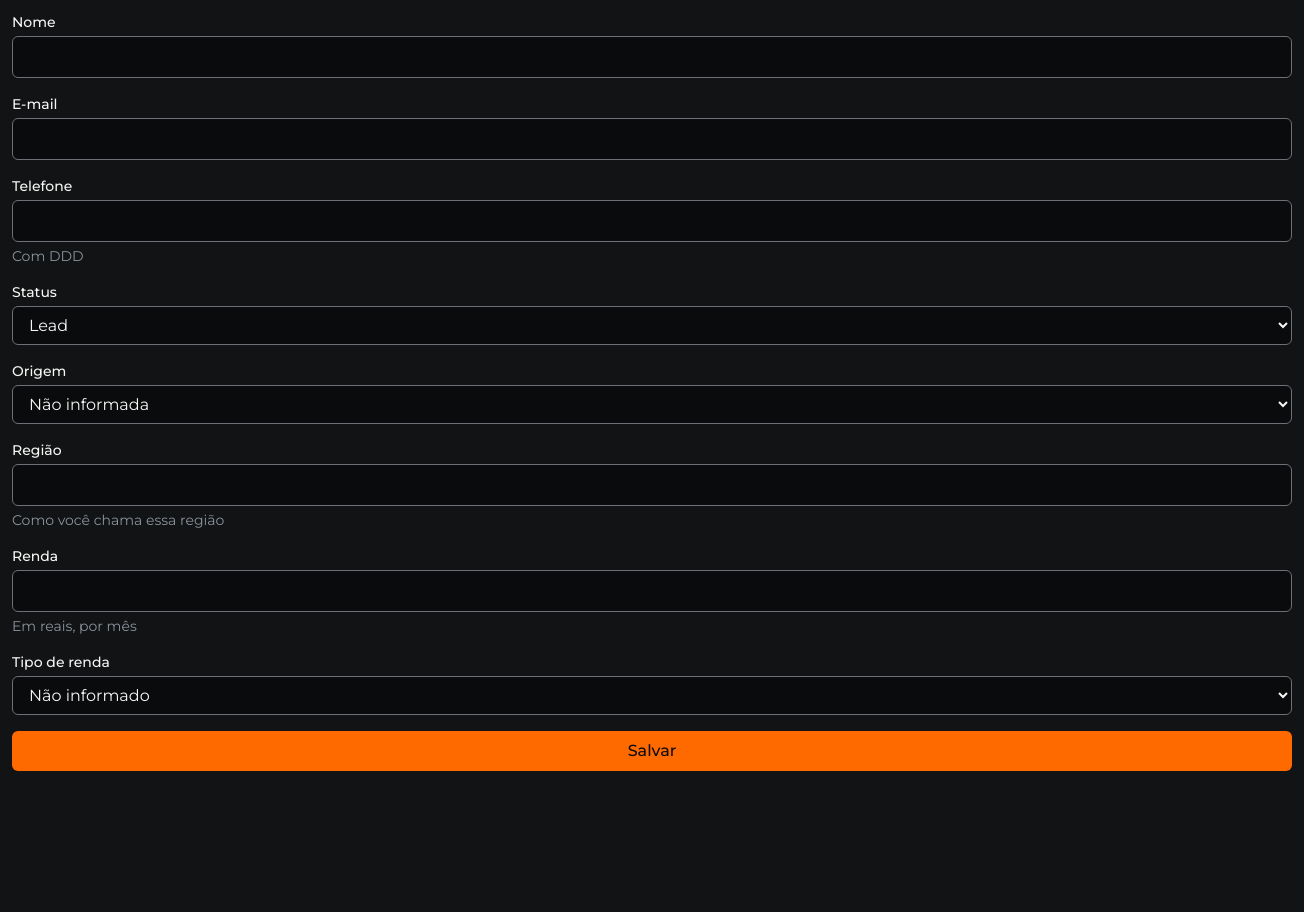
it: FormularioDeCliente › recusa e-mail de formato inválido, sem enviar
Type "Ana Prado" into the field labelled "Nome". click: (652, 57)
box: [12, 36, 1292, 78]
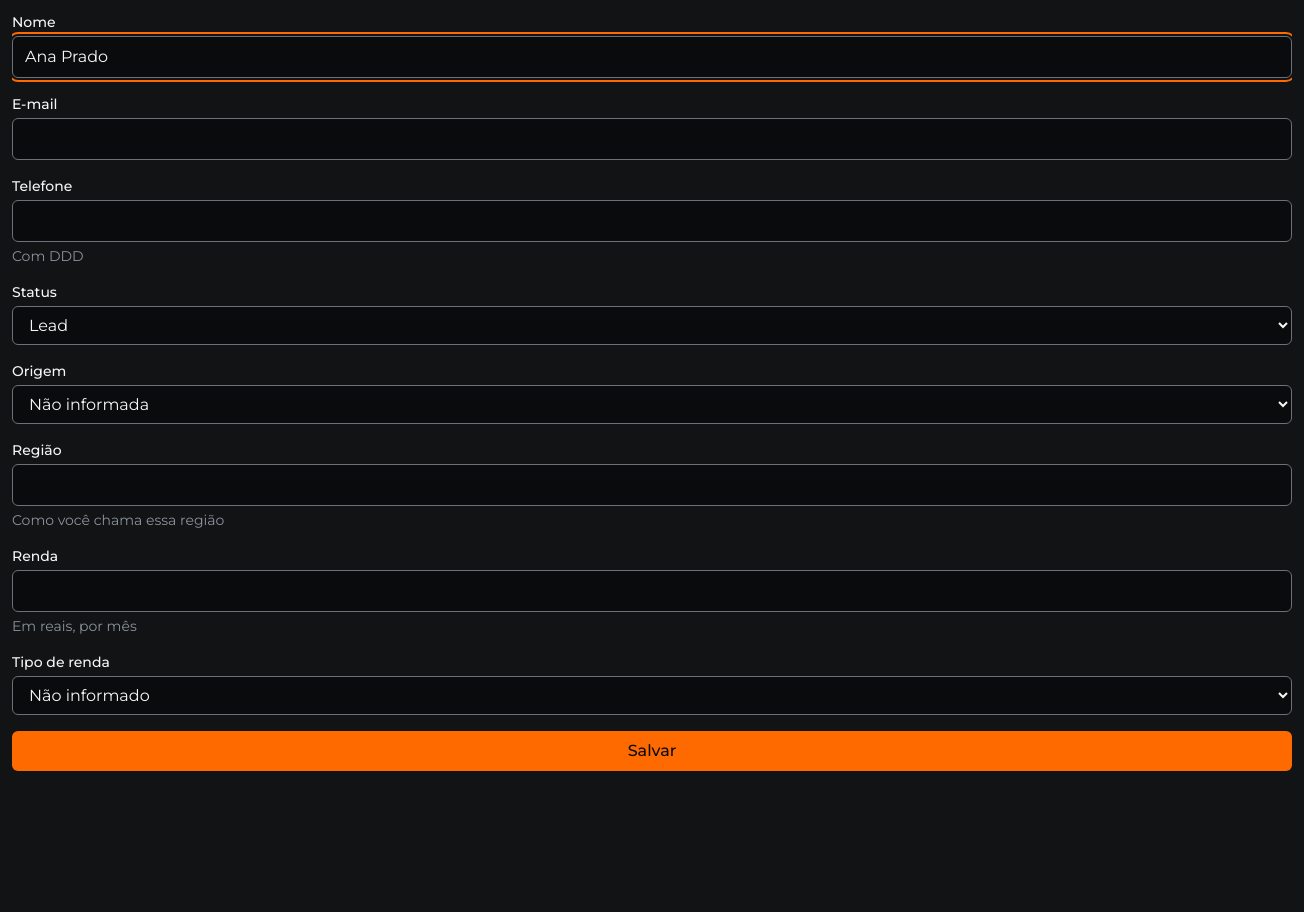
Type "ana@exemplo" into the field labelled "E-mail". click: (652, 139)
box: [12, 118, 1292, 160]
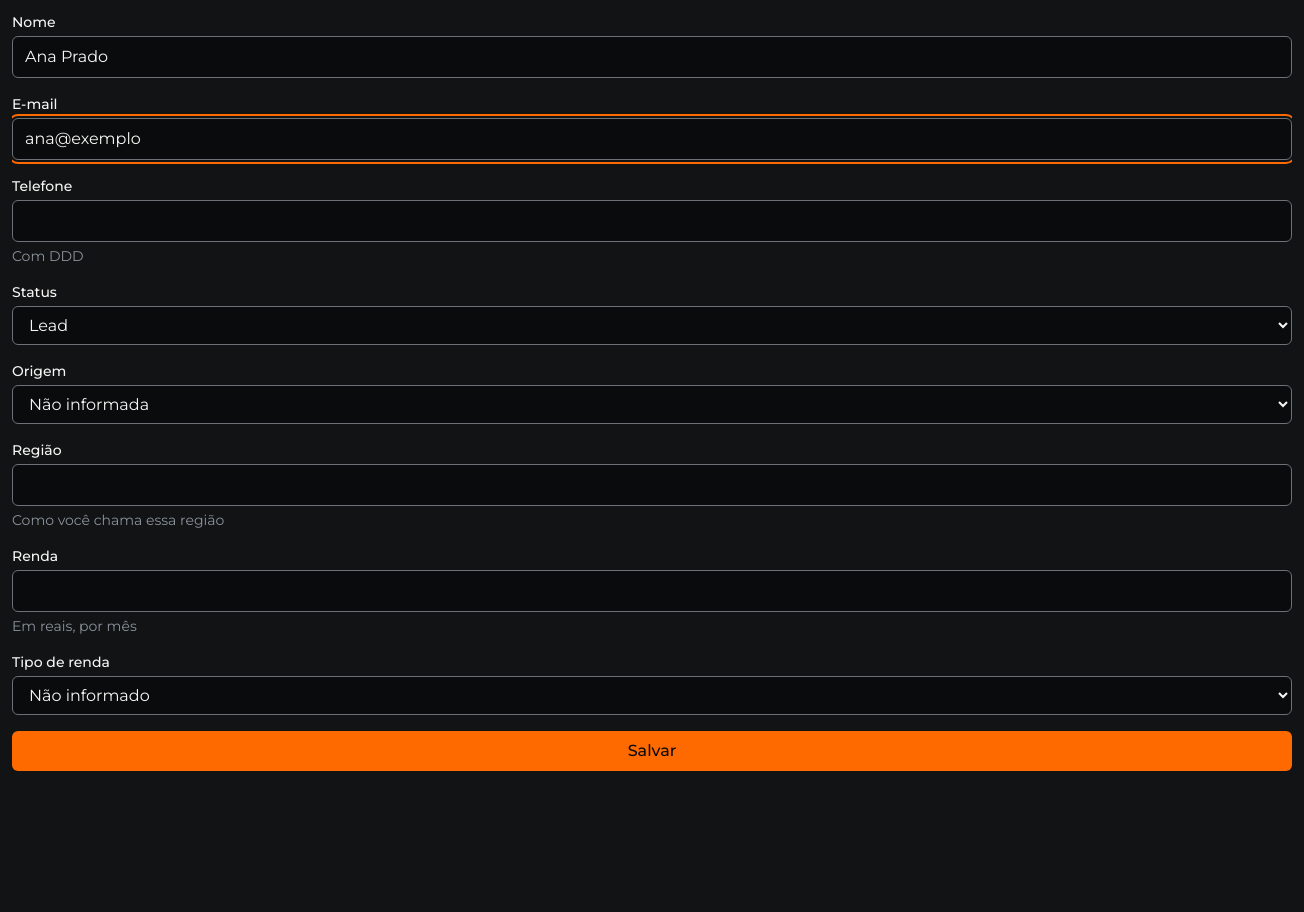
Click the button "Salvar". click: (652, 751)
box: [12, 731, 1292, 771]
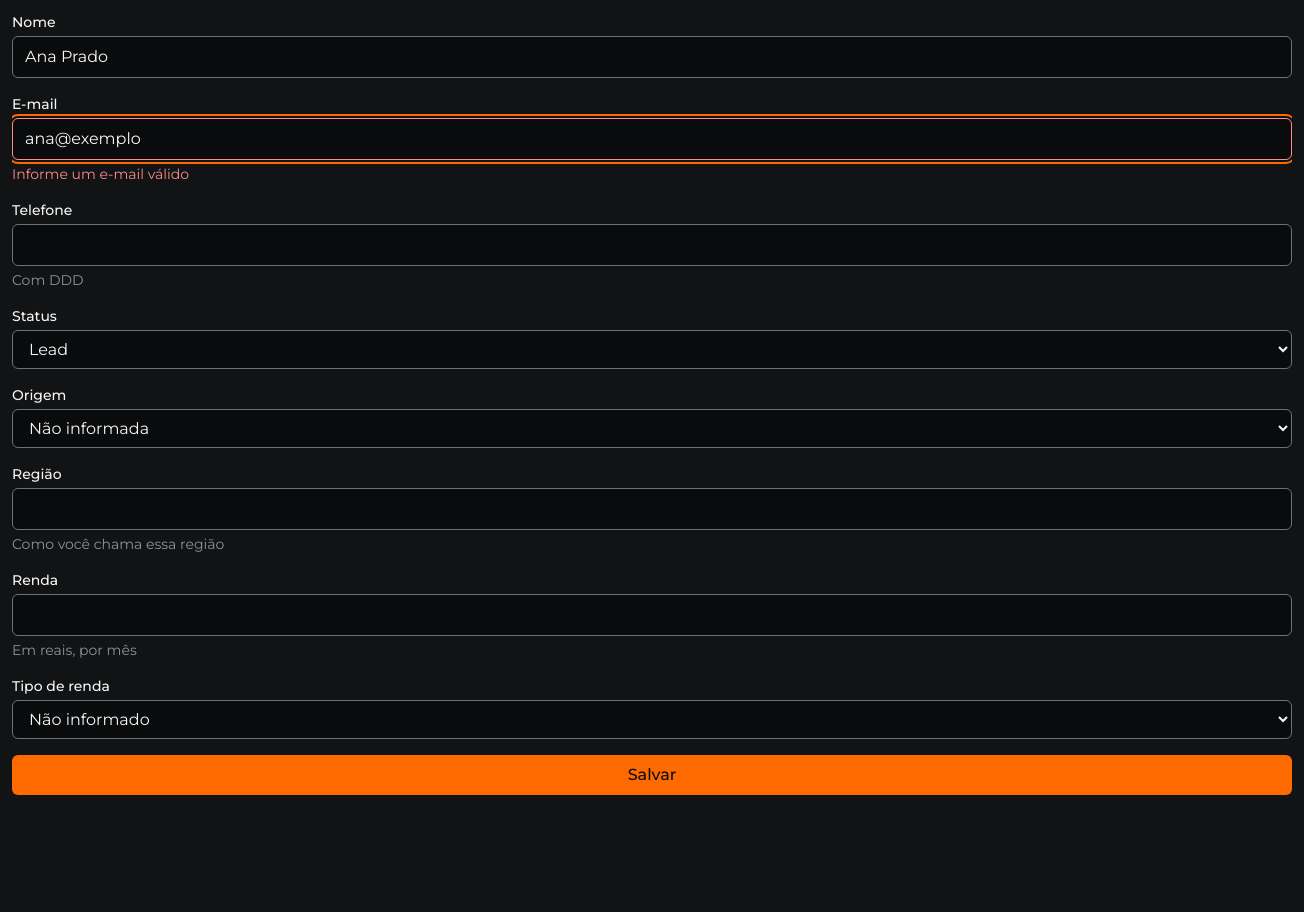
Check: the text "Informe um e-mail válido" is shown, box [12, 165, 189, 183]
